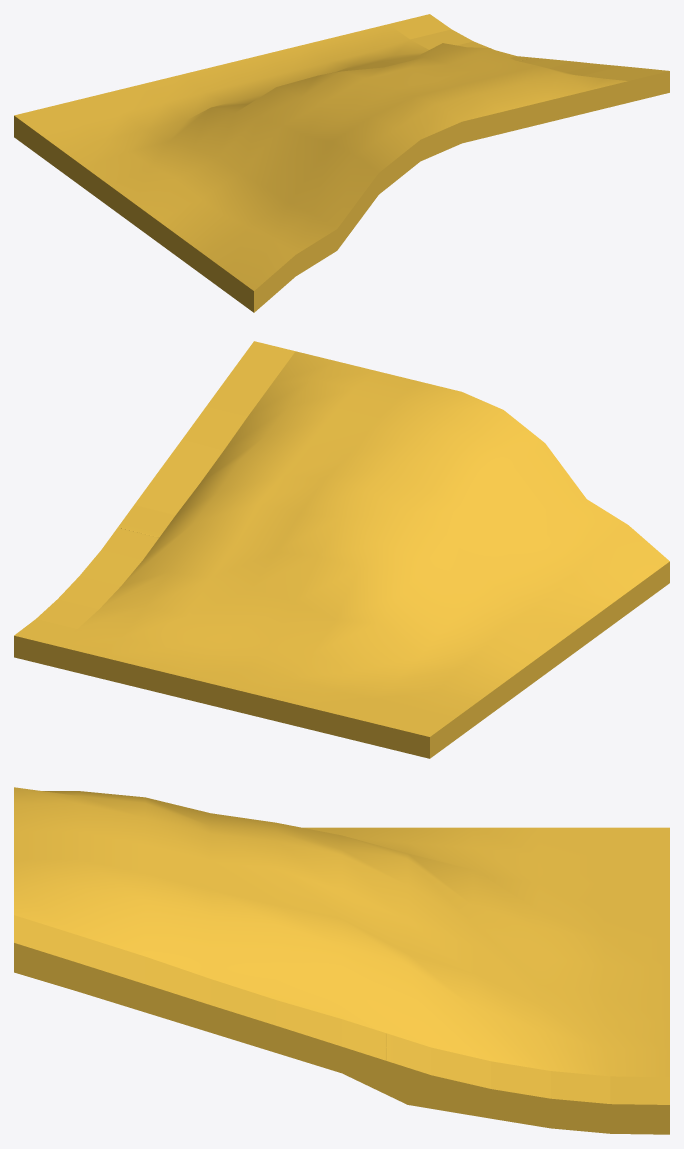
File: Flach - Unten - Ecke x - b.fbx
3 renders of one model, top to bottom at view 1: azimuth 30°, elevation 25°; view 2: azimuth 150°, elevation 25°; view 3: azimuth 270°, elevation 25°, orthographic. The views are drawn at different scales.
Parts seen in each view (by area): view 1: Flach - Unten - Ecke x - b; view 2: Flach - Unten - Ecke x - b; view 3: Flach - Unten - Ecke x - b.
Part boxes in pixels (x1=…): Flach - Unten - Ecke x - b: x1=14, y1=14, x2=669, y2=312; Flach - Unten - Ecke x - b: x1=14, y1=341, x2=669, y2=758; Flach - Unten - Ecke x - b: x1=14, y1=787, x2=669, y2=1134.
Bounding box in the file's own units: 394 × 127 × 394.
